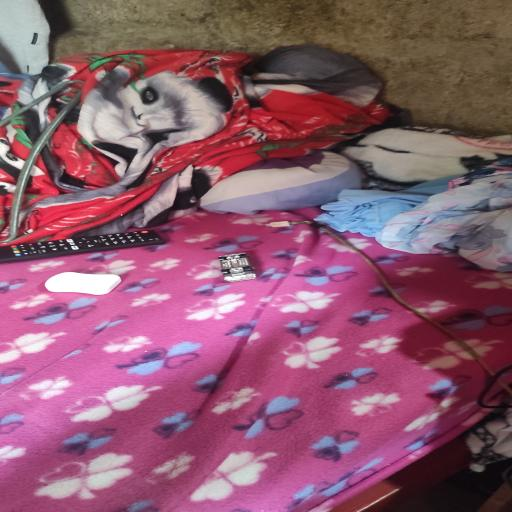Carrito: (218, 252, 256, 282)
